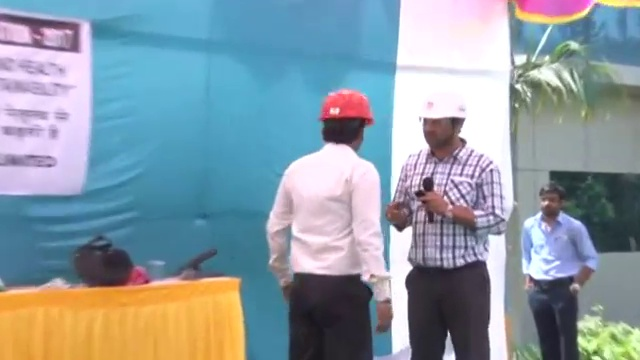helmet: (318, 85, 377, 128), (419, 93, 469, 122)
helmet_off: (537, 181, 563, 217)
helmet_on: (317, 84, 378, 154), (418, 92, 471, 156)
person: (266, 85, 393, 360), (388, 93, 507, 360), (521, 182, 598, 360)
